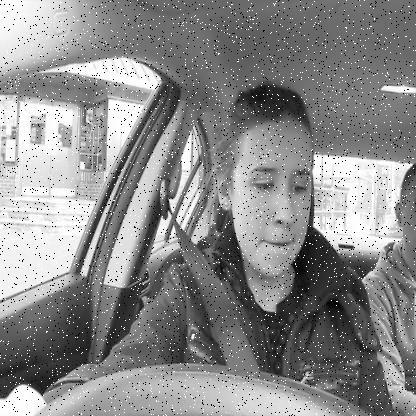seatbelt: (150, 71, 328, 367)
